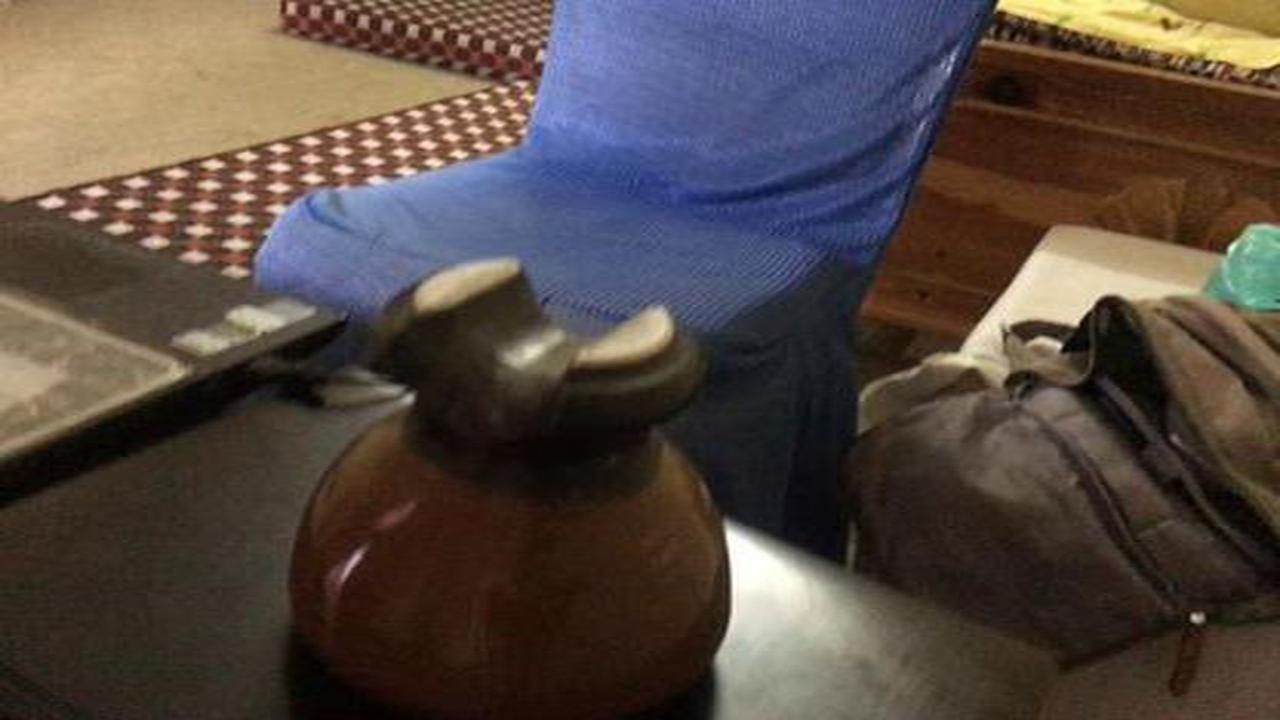insulator_pin: (287, 246, 754, 708)
